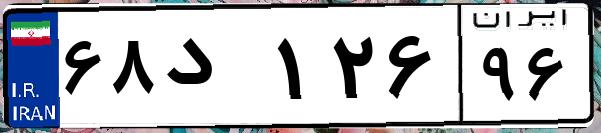1: (270, 28, 330, 110)
2: (330, 28, 385, 110)
6: (385, 28, 445, 110), (57, 26, 110, 100), (525, 38, 570, 115)
8: (110, 28, 158, 98)
9: (475, 38, 525, 113)
د: (158, 20, 270, 120)
